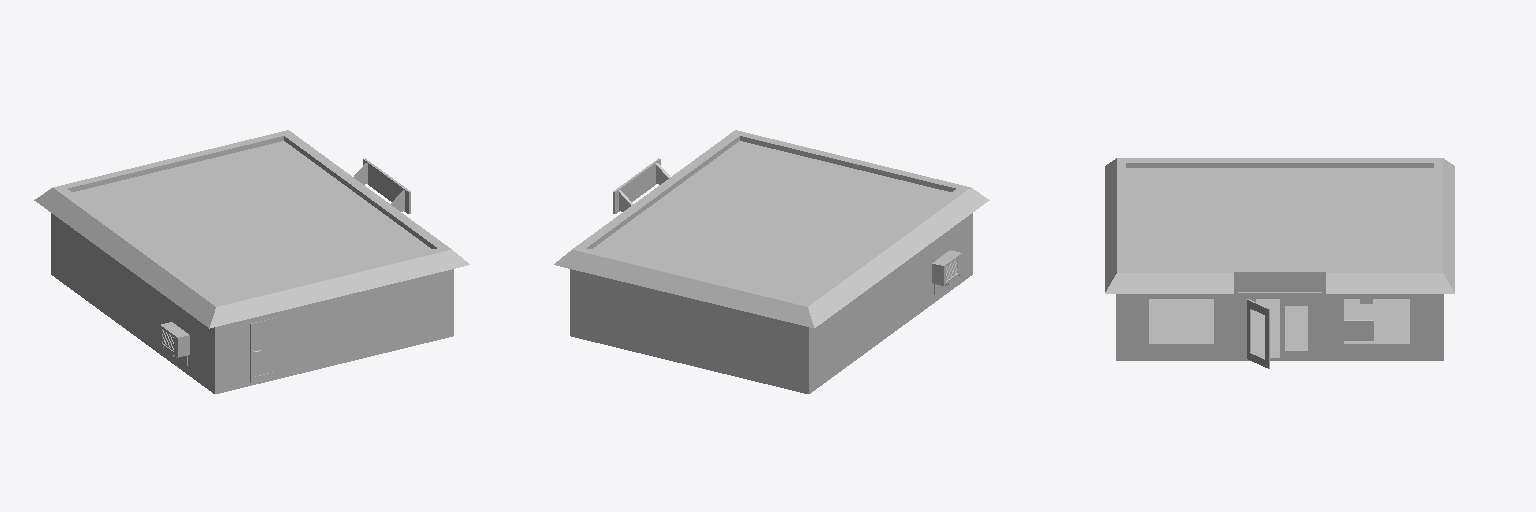
Rendered from abandonada.obj.
3 views of the same model, side by side, from view 1: azimuth 30°, elevation 25°; view 2: azimuth 150°, elevation 25°; view 3: azimuth 270°, elevation 25° (orthographic).
Parts seen in each view (by area): view 1: Cube, Cube_003, Cube_004, Cube_002; view 2: Cube, Cube_004, Cube_002; view 3: Cube, Cube_004, Cube_006, Cube_001, Cube_007.
Part boxes in pixels (x1,y1,x2,y2): Cube: (34,130,469,393); Cube_003: (250,317,279,382); Cube_004: (354,158,410,213); Cube_002: (160,322,189,365); Cube: (554,130,989,393); Cube_004: (613,158,669,213); Cube_002: (932,250,961,294); Cube: (1105,158,1454,360); Cube_004: (1234,271,1325,293); Cube_006: (1344,299,1373,340); Cube_001: (1280,299,1312,357); Cube_007: (1247,299,1269,368).
Bounding box in the file's own units: 377 × 129 × 420.